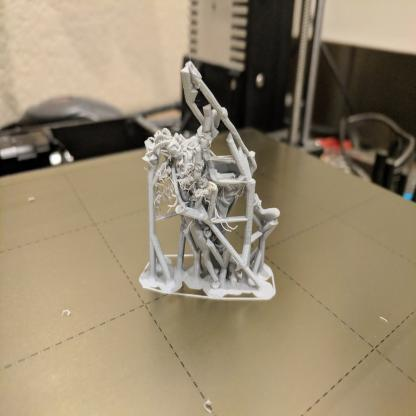fail: (152, 156, 210, 221)
